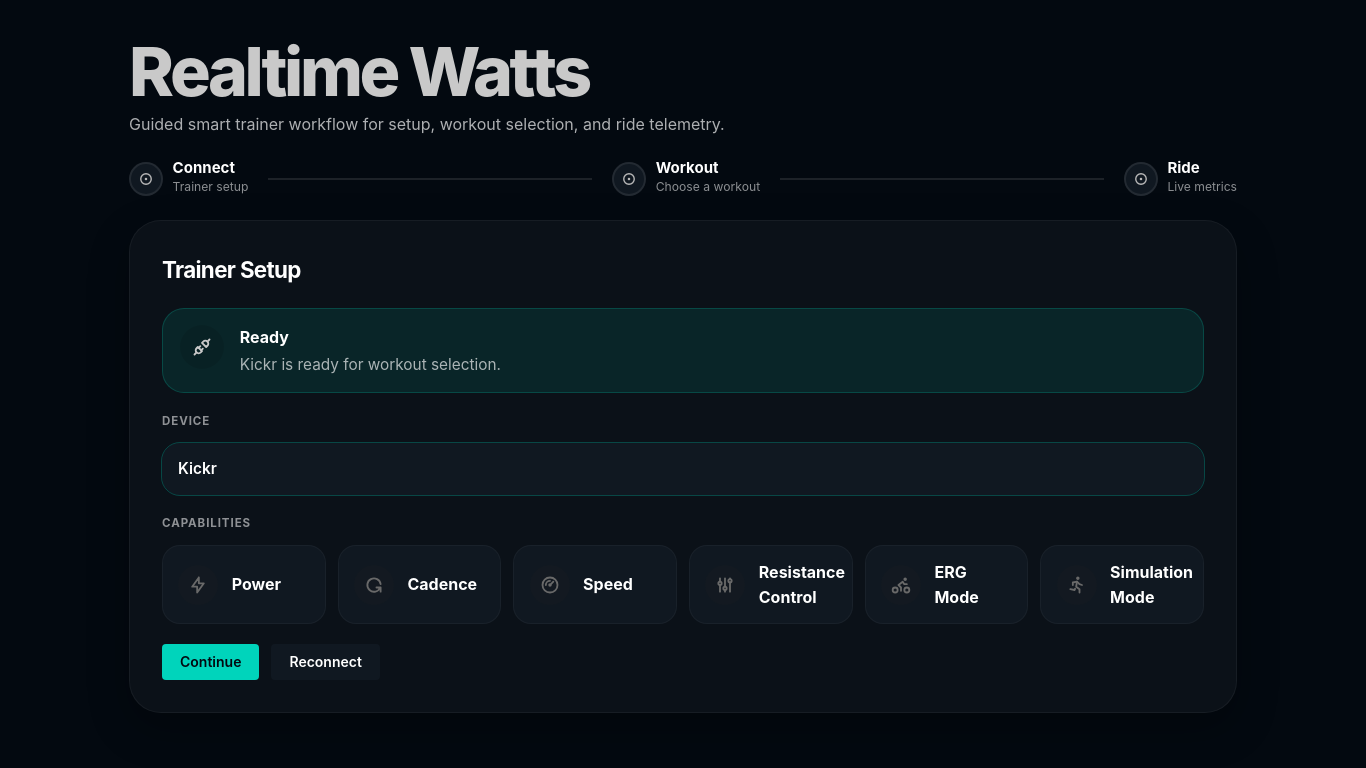
app routing and screens › allows navigating with unlocked workflow steps
The width and height of the screenshot is (1366, 768).
Click the button with test id "workflow-step-workouts" at (686, 179), box x1=612 y1=160 x2=760 y2=199
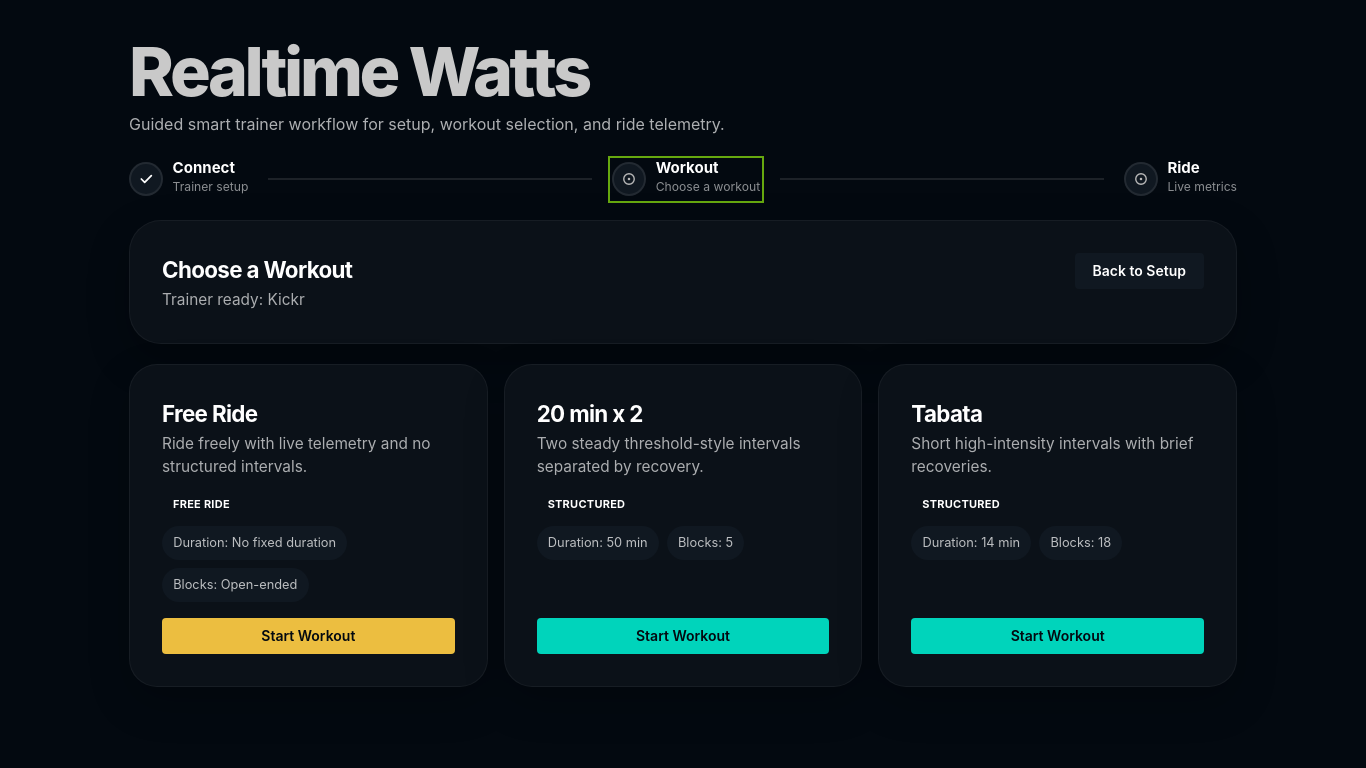
Check: the text "Choose a Workout" is shown, box x1=162 y1=253 x2=352 y2=288
Click the button with test id "workflow-step-connect" at (189, 179), box x1=129 y1=160 x2=248 y2=199
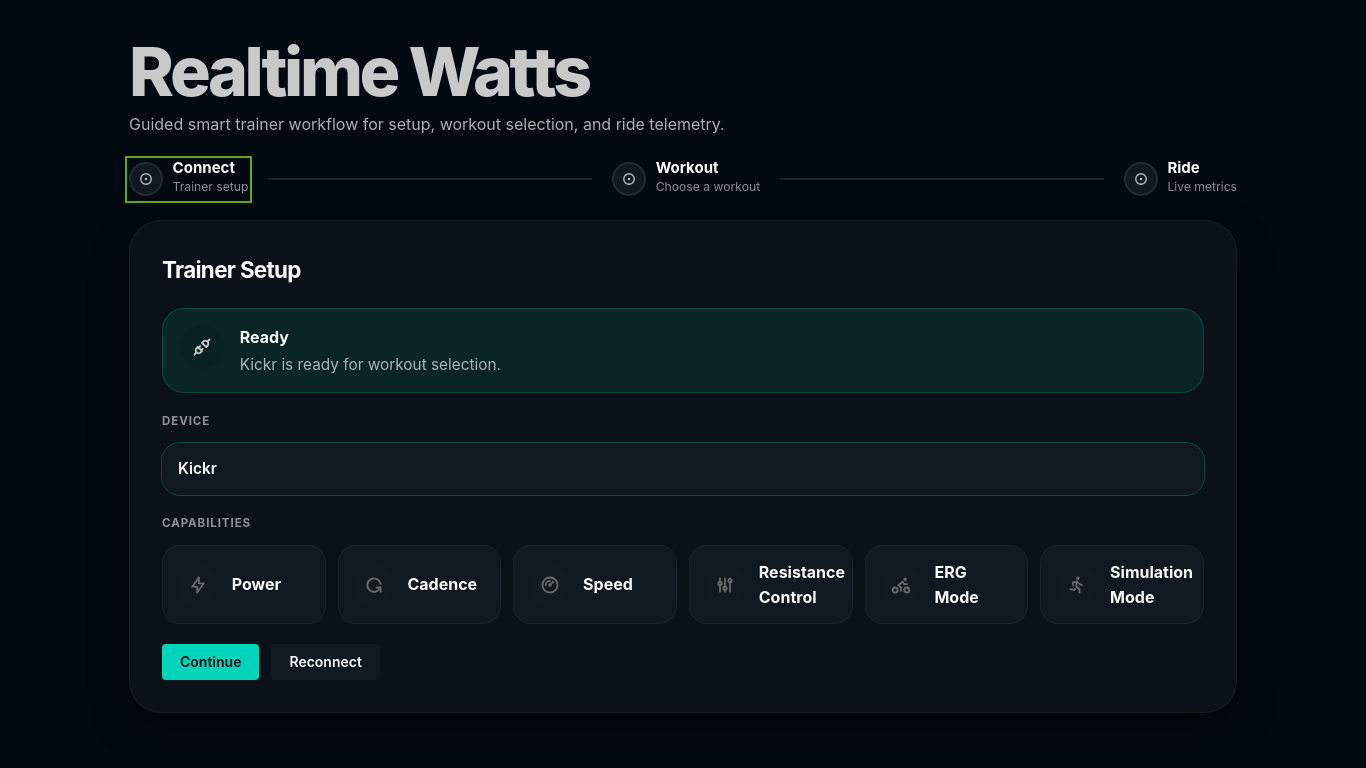
Check: the text "Trainer Setup" is shown, box x1=162 y1=253 x2=301 y2=288
